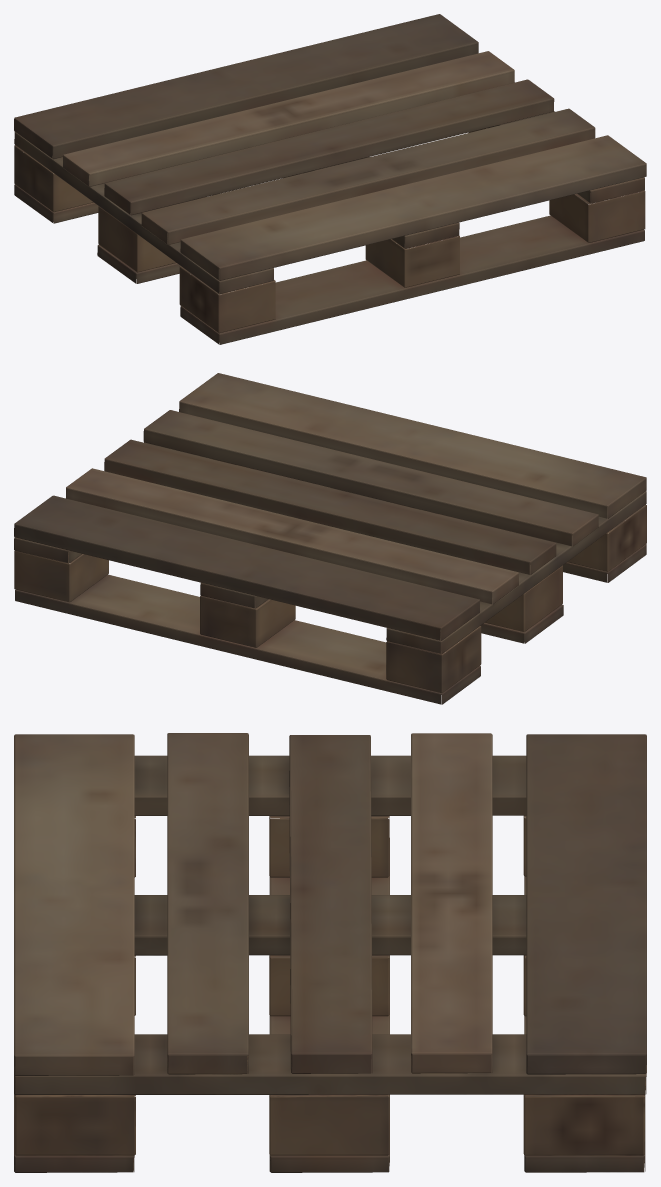
File: pallet_b01.glb
3 renders of one model, top to bottom at view 1: azimuth 30°, elevation 25°; view 2: azimuth 150°, elevation 25°; view 3: azimuth 270°, elevation 25°, orthographic. The views are drawn at different scales.
Parts seen in each view (by area): view 1: geometry_0; view 2: geometry_0; view 3: geometry_0.
Part boxes in pixels (left/top/right/bottom): geometry_0: left=14, top=14, right=646, bottom=344; geometry_0: left=14, top=373, right=646, bottom=704; geometry_0: left=14, top=733, right=646, bottom=1172.
Bounding box in the file's own units: 0.42 × 0.0724 × 0.3478.
1 material, 1 textured.
